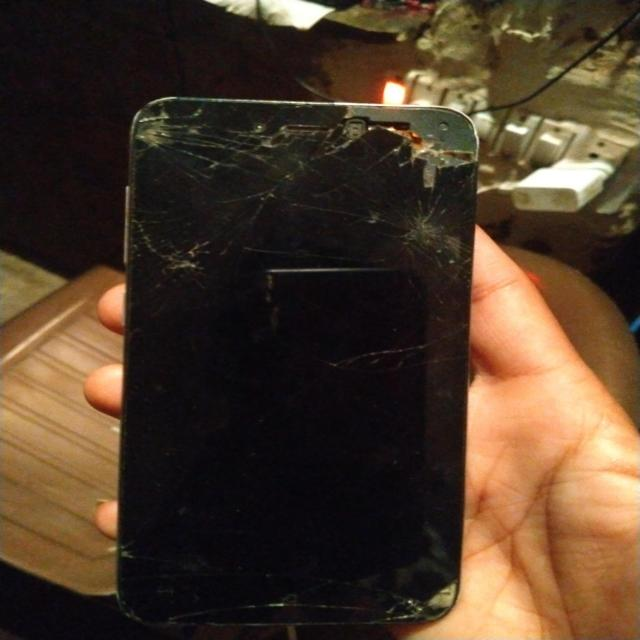mobile: (51, 70, 557, 640)
